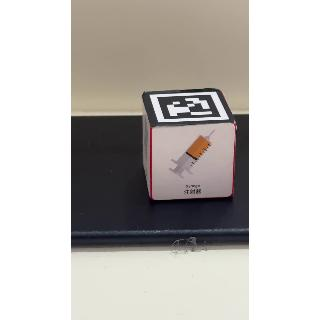Syringe: (154, 127, 237, 197)
